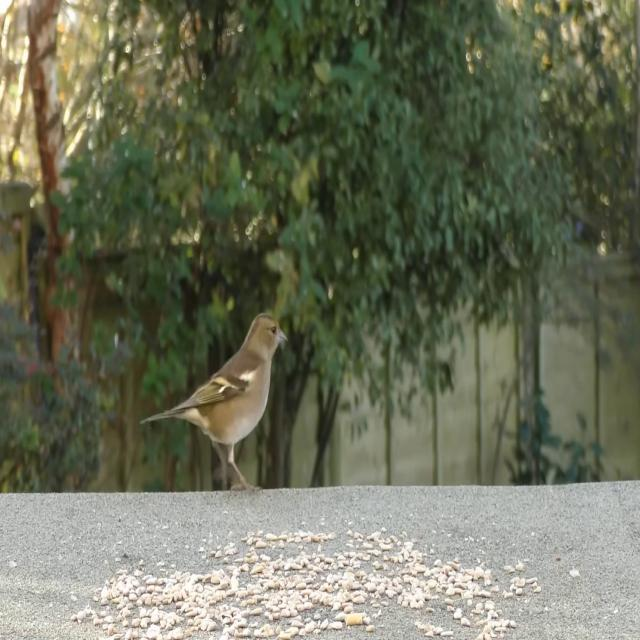beak: (276, 326, 289, 346)
bird: (135, 308, 289, 505)
